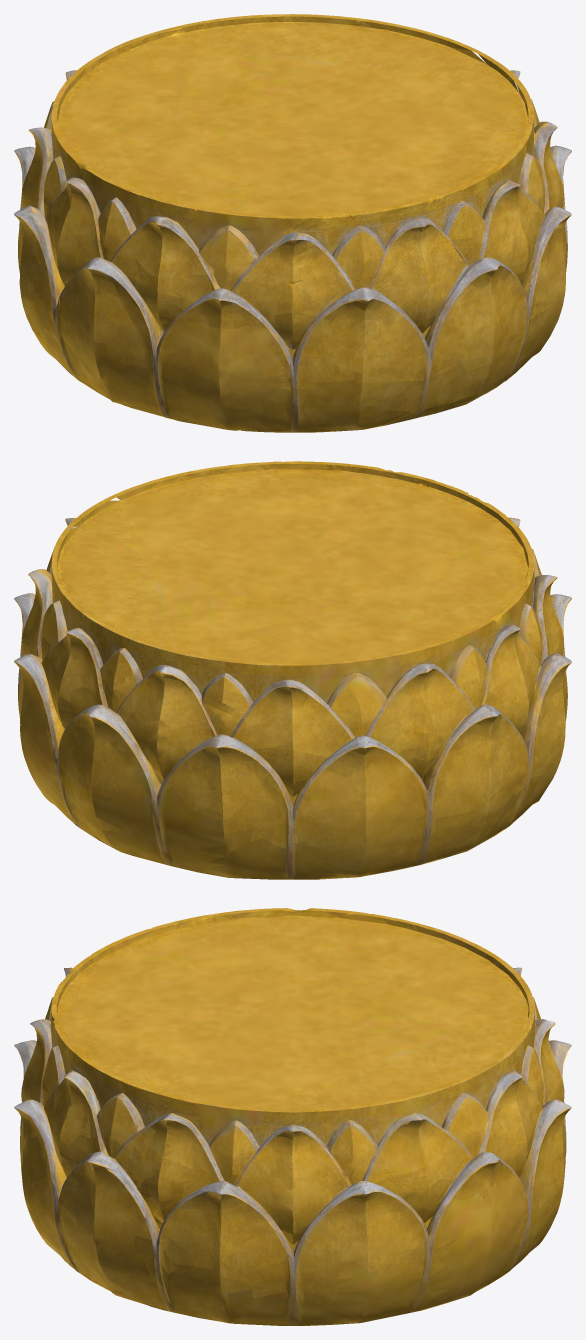
The model's file is w3hlotus.glb.
3 views of the same model, one above another, from view 1: azimuth 30°, elevation 25°; view 2: azimuth 150°, elevation 25°; view 3: azimuth 270°, elevation 25° (orthographic).
Parts seen in each view (by area): view 1: output_unwrapped; view 2: output_unwrapped; view 3: output_unwrapped.
Part boxes in pixels (box(x1,y1,x2,y2)): output_unwrapped: box(14, 14, 571, 432); output_unwrapped: box(14, 461, 571, 879); output_unwrapped: box(14, 908, 571, 1325).
Bounding box in the file's own units: 1.9 × 0.7979 × 1.9.
Materials: 1 (1 with a texture image).
